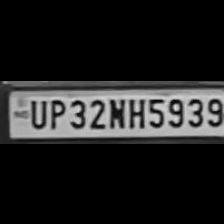2: (86, 95, 106, 129)
3: (66, 94, 86, 128), (184, 93, 204, 126)
5: (145, 94, 165, 128)
9: (165, 93, 183, 126), (203, 93, 221, 126)
H: (126, 95, 144, 129)
N: (106, 95, 126, 129)
P: (46, 96, 66, 128)
U: (26, 96, 46, 128)
